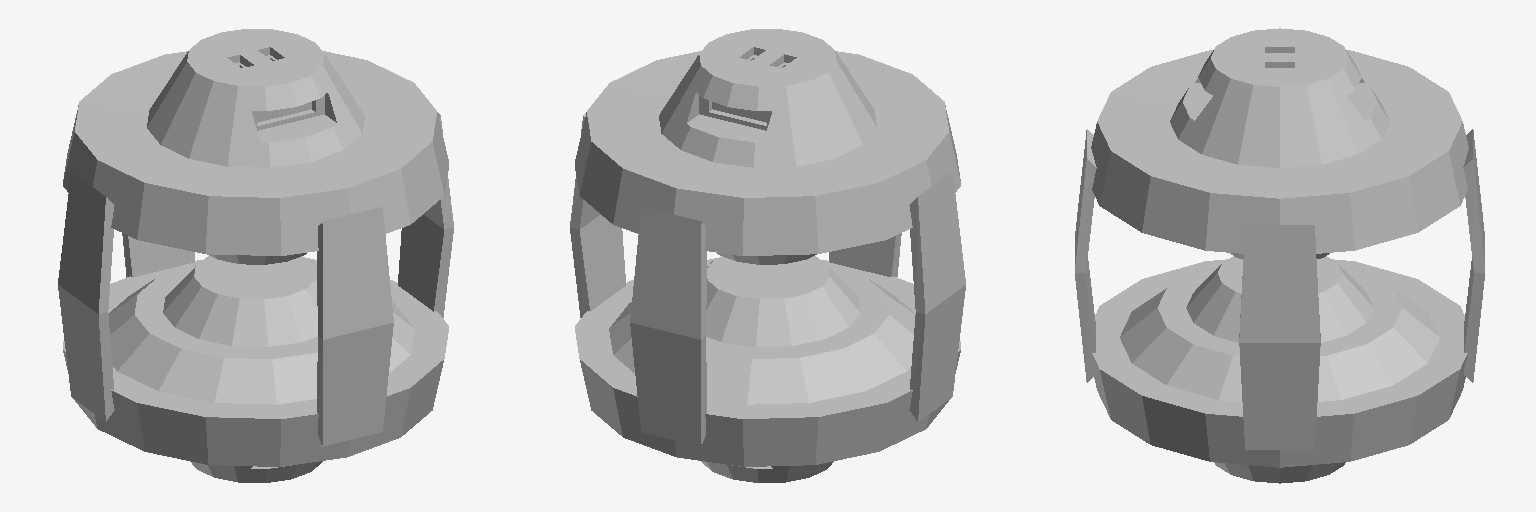
File: Core_IV_Main.obj
3 renders of one model, left to right at view 1: azimuth 30°, elevation 25°; view 2: azimuth 150°, elevation 25°; view 3: azimuth 270°, elevation 25°, orthographic.
Parts seen in each view (by area): view 1: Core_IV_Core__IV_Mesh; view 2: Core_IV_Core__IV_Mesh; view 3: Core_IV_Core__IV_Mesh.
Boxes of the visible parts, x1,y1,x2,y2 form: Core_IV_Core__IV_Mesh: [58, 29, 453, 482]; Core_IV_Core__IV_Mesh: [570, 29, 965, 482]; Core_IV_Core__IV_Mesh: [1075, 28, 1484, 483].
Size of the model in its own units: 0.7281 by 0.7755 by 0.7281.